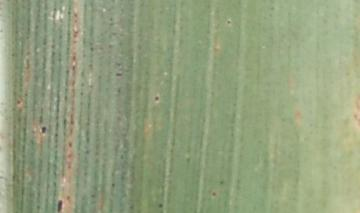tarspot: (55, 197, 64, 213), (38, 125, 49, 136), (153, 92, 160, 105), (210, 189, 219, 198), (158, 201, 165, 211), (183, 156, 193, 163), (226, 18, 232, 28), (218, 178, 225, 186)
